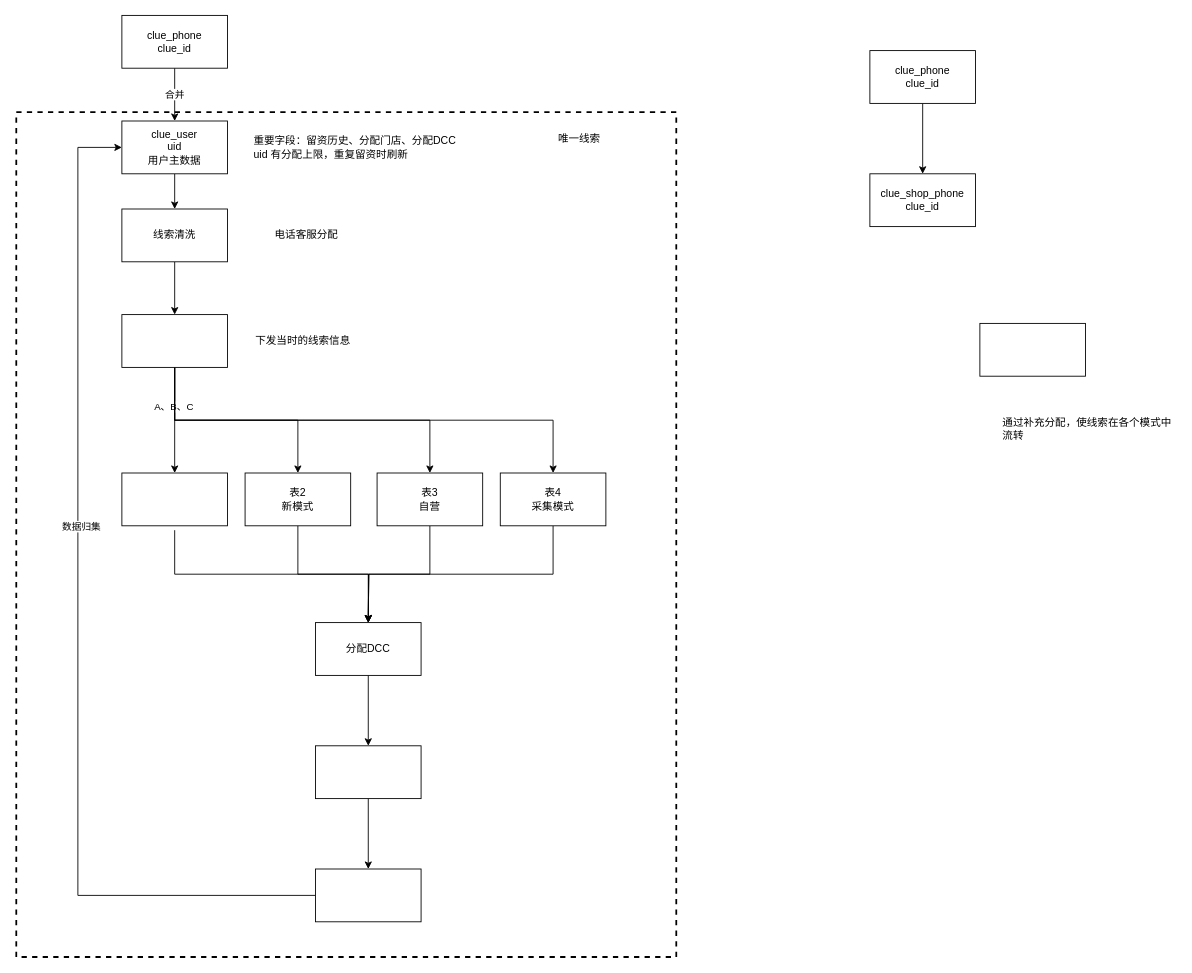
This 1192x973 diagram has some shape labels left out. Here are the shapes that lost their labels. From the top down, the box of each, then its label:
(121, 314, 227, 367): 分配商家
(979, 323, 1085, 376): clue_shop_phone 多个字段
(121, 472, 227, 526): 表1 旧模式
(315, 745, 421, 799): 线索跟进
(315, 868, 421, 922): 下订成交
